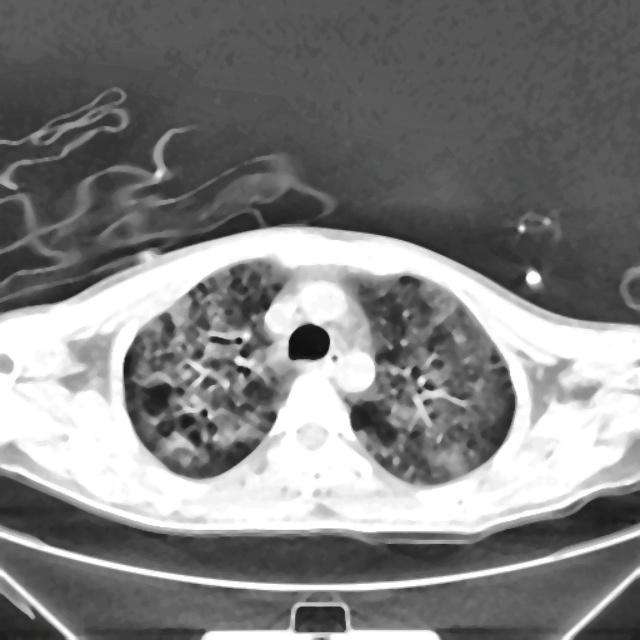covid: (0, 222, 639, 545)
